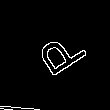P_SW: (24, 26, 86, 84)
